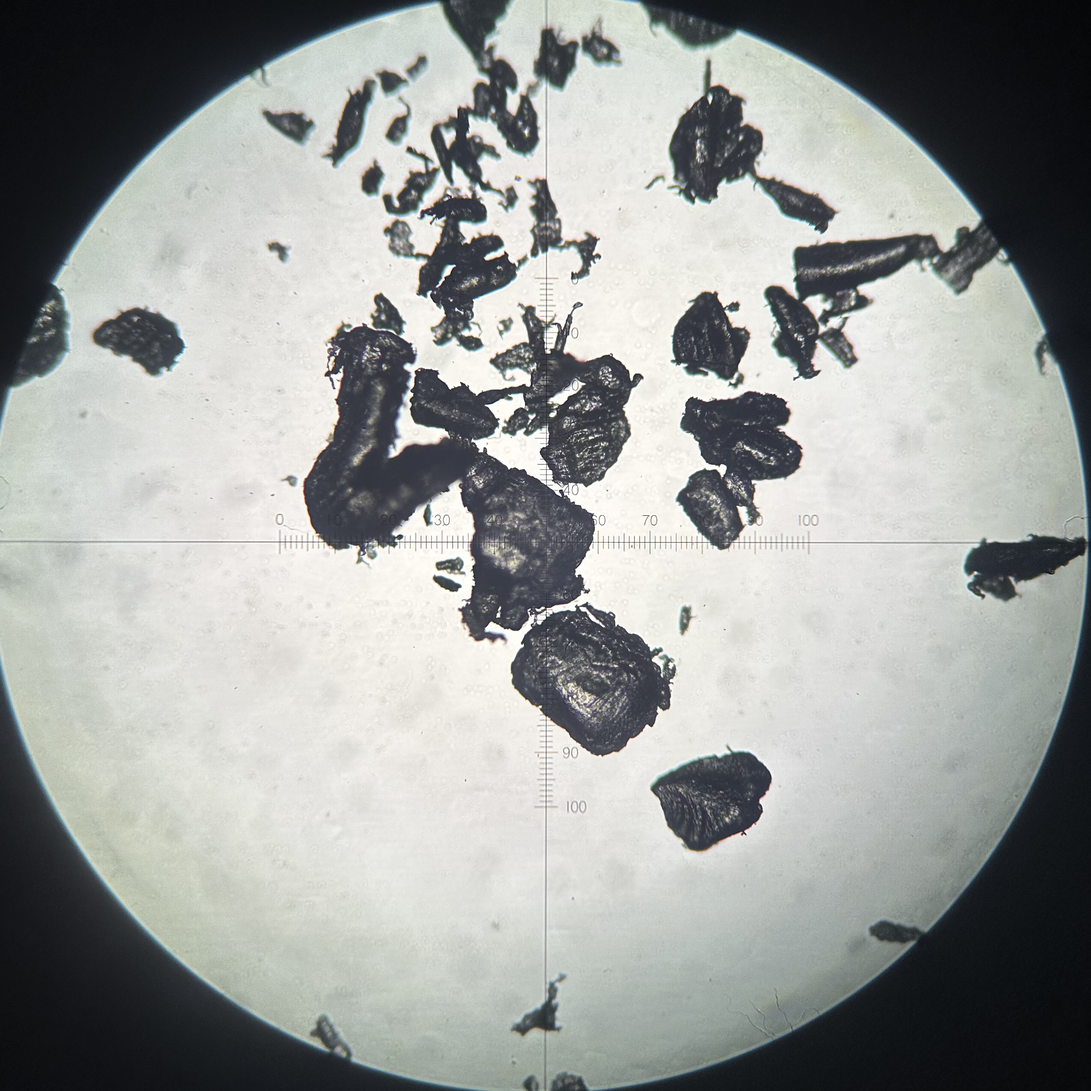microplastic: (300, 317, 478, 554), (458, 445, 597, 627), (508, 603, 664, 758), (538, 353, 646, 487), (647, 742, 775, 853), (667, 81, 766, 203), (695, 420, 805, 528), (790, 230, 946, 305), (960, 531, 1089, 604), (667, 288, 752, 383), (8, 280, 75, 388), (407, 366, 501, 442), (92, 305, 187, 377), (931, 218, 1012, 298), (672, 468, 748, 551), (678, 391, 795, 444), (764, 284, 822, 382), (752, 175, 840, 237), (320, 77, 376, 171), (639, 1, 740, 51), (431, 250, 518, 307), (439, 0, 514, 63), (414, 215, 464, 300), (522, 351, 592, 410), (509, 970, 568, 1038), (448, 140, 508, 198), (526, 177, 565, 259), (534, 26, 582, 91), (382, 165, 442, 216), (416, 186, 490, 226), (515, 299, 557, 367), (489, 106, 544, 157), (429, 230, 506, 266), (551, 230, 602, 282), (441, 297, 486, 352), (384, 217, 434, 261), (481, 43, 510, 118), (309, 1014, 355, 1061), (260, 109, 317, 146), (489, 340, 537, 382), (817, 324, 861, 369), (367, 292, 409, 339), (380, 95, 416, 148), (431, 115, 457, 186), (550, 300, 584, 354), (651, 645, 678, 712), (867, 917, 929, 946), (428, 309, 473, 347), (580, 27, 624, 65), (826, 285, 874, 318), (477, 56, 520, 92), (522, 400, 560, 439), (1031, 328, 1059, 377), (579, 600, 618, 633), (458, 600, 487, 644), (374, 67, 412, 100), (477, 383, 531, 406), (359, 158, 389, 198), (465, 134, 504, 163), (466, 78, 492, 121), (455, 105, 470, 172), (500, 406, 531, 438), (433, 554, 469, 579), (548, 1069, 588, 1091), (518, 92, 541, 130), (444, 428, 479, 450), (496, 181, 520, 213), (265, 239, 295, 264), (678, 604, 700, 637), (404, 143, 436, 164), (406, 54, 429, 83), (431, 574, 465, 593), (250, 65, 274, 89), (355, 544, 377, 570), (701, 58, 714, 101), (480, 628, 509, 647), (495, 315, 516, 340), (725, 372, 749, 392), (642, 174, 666, 192), (519, 1073, 542, 1091), (529, 605, 547, 626), (815, 307, 832, 329), (525, 79, 542, 99), (421, 503, 435, 527), (834, 314, 850, 335), (682, 183, 697, 205), (468, 320, 485, 337), (281, 474, 299, 489), (516, 253, 531, 271), (663, 183, 682, 197), (725, 298, 740, 315), (422, 156, 432, 176), (513, 174, 523, 183)
